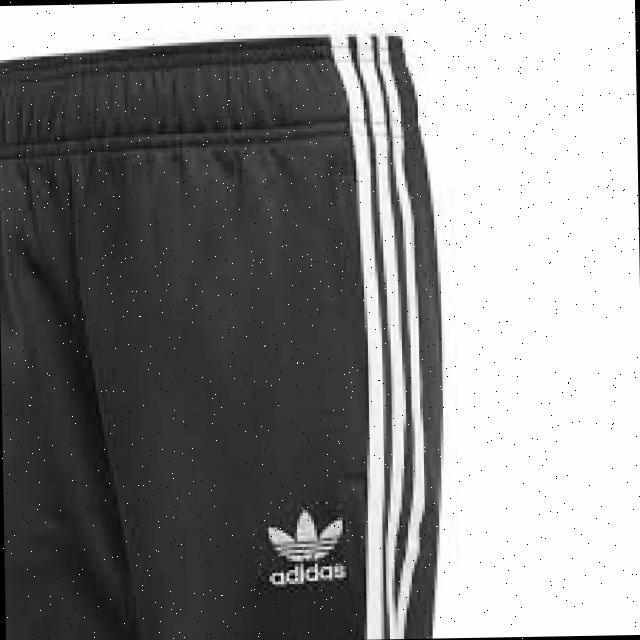Adidas: (254, 501, 351, 571)
